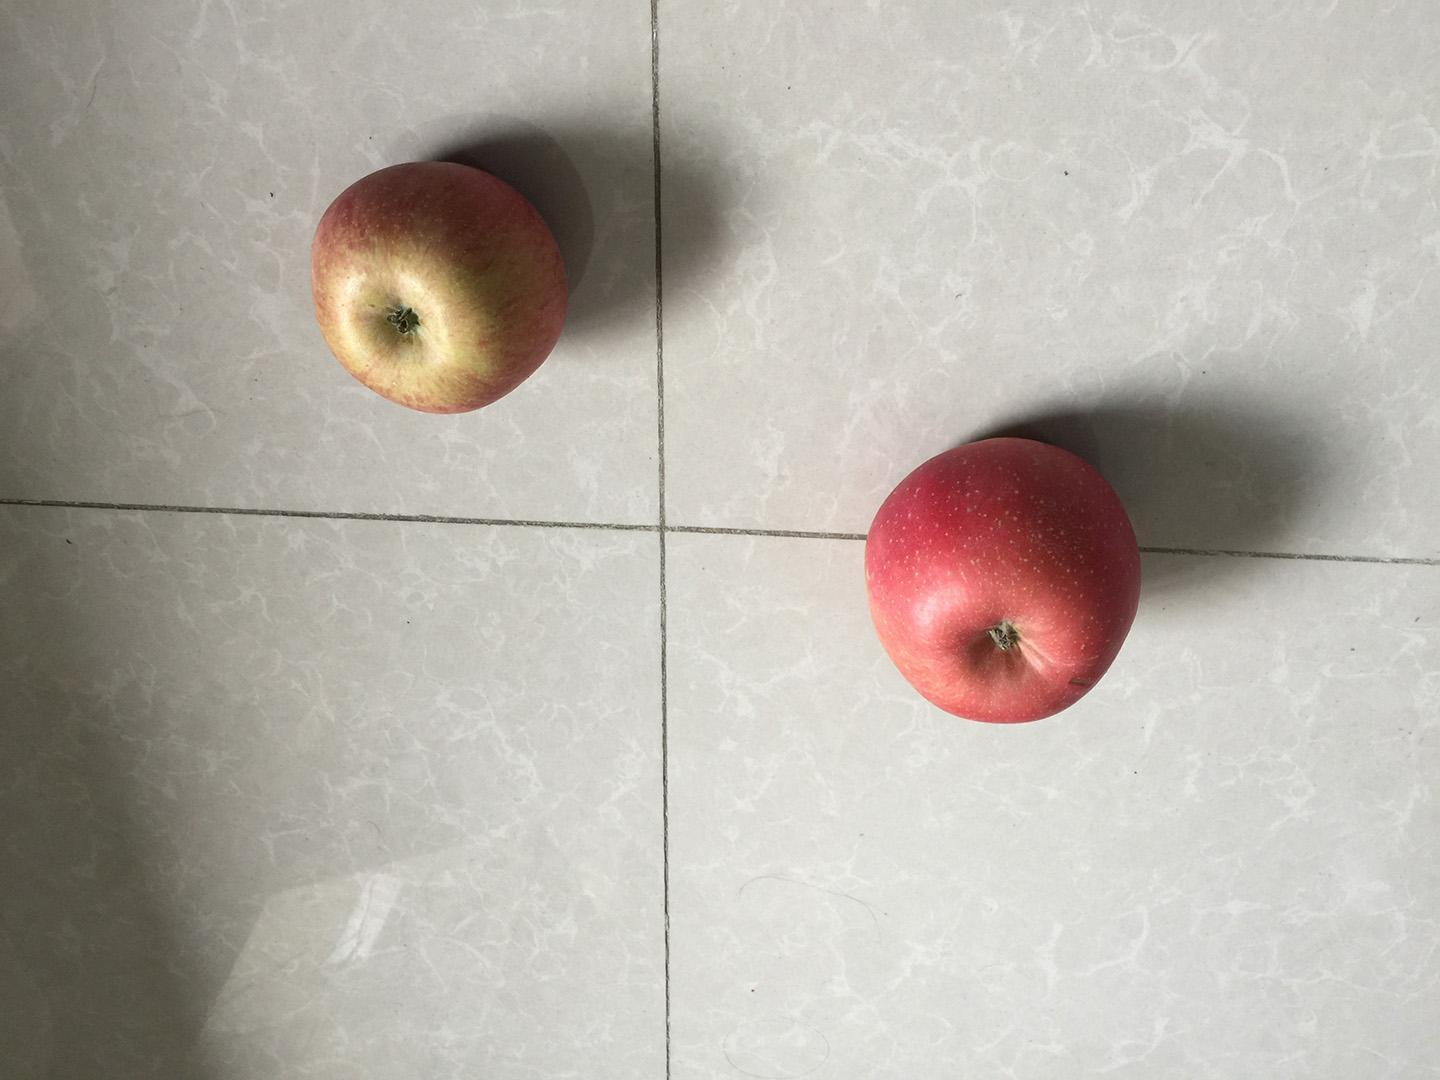apple: (854, 427, 1149, 731), (306, 152, 575, 423)
